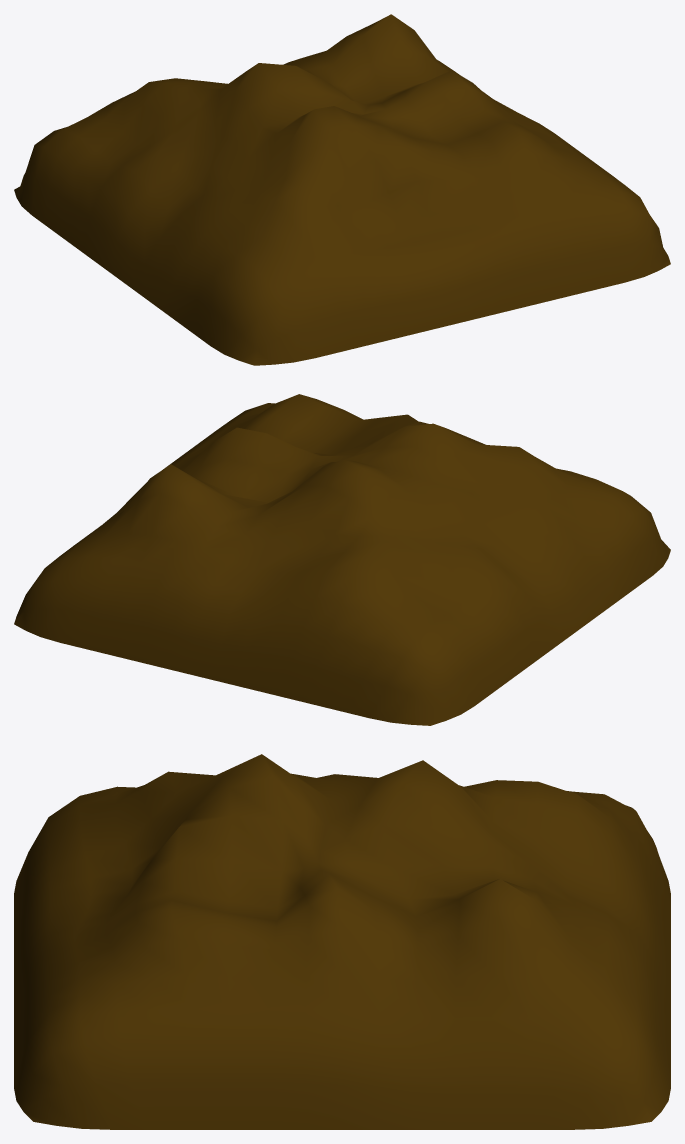
The model's file is dirt_bag.fbx.
3 views of the same model, one above another, from view 1: azimuth 30°, elevation 25°; view 2: azimuth 150°, elevation 25°; view 3: azimuth 270°, elevation 25° (orthographic). The views are drawn at different scales.
Parts seen in each view (by area): view 1: pPlane1; view 2: pPlane1; view 3: pPlane1.
Part boxes in pixels (x1=…): pPlane1: x1=14, y1=14, x2=670, y2=365; pPlane1: x1=14, y1=394, x2=670, y2=725; pPlane1: x1=14, y1=754, x2=670, y2=1129.
Bounding box in the file's own units: 3.51 × 1.18 × 3.51.
